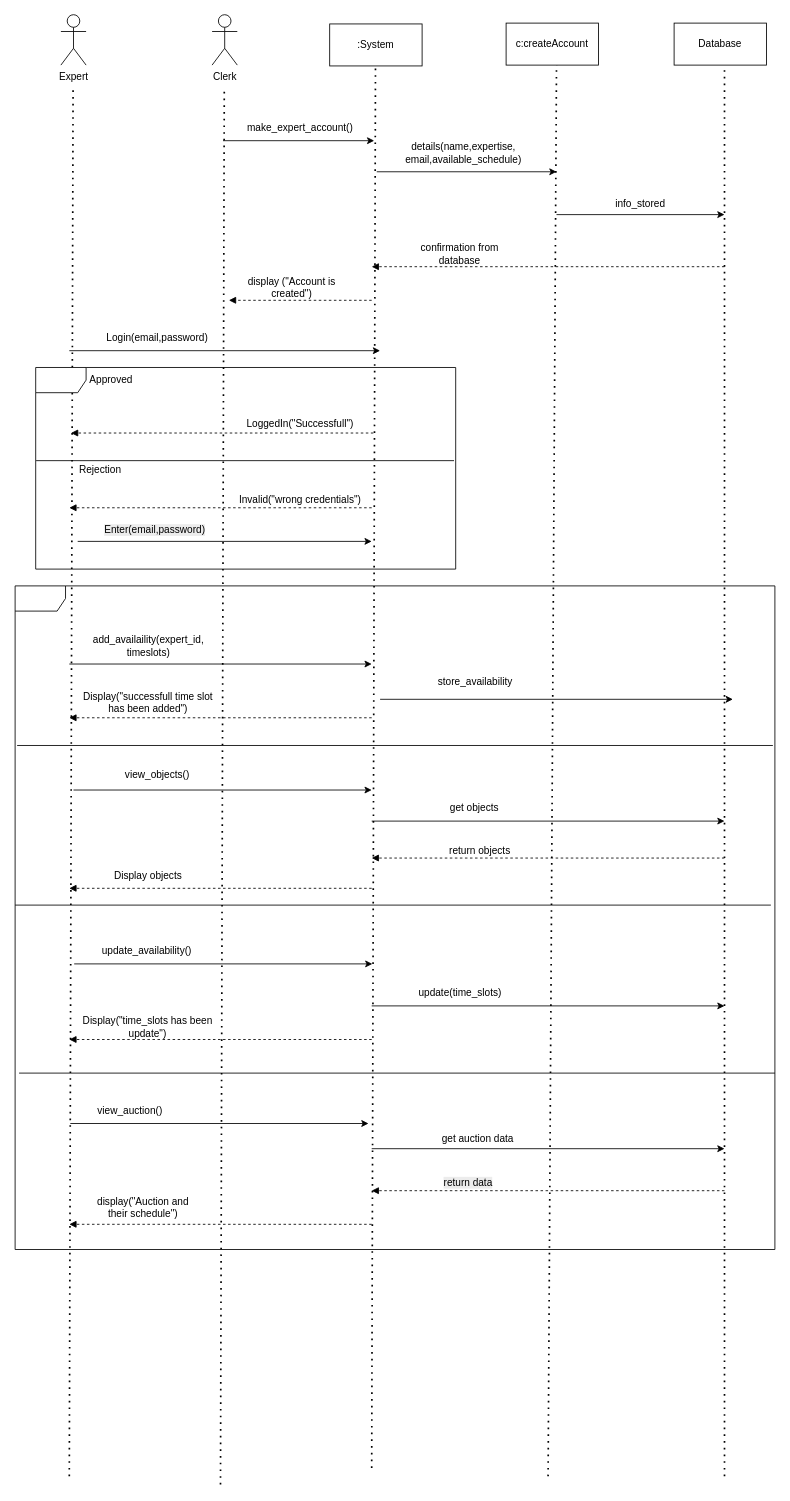
Image size: 790x1501. Some labels were removed from this diagram. Each missing label, with the box of its shape:
ALT: (35, 367, 456, 569)
Parallel: (14, 585, 775, 1250)
